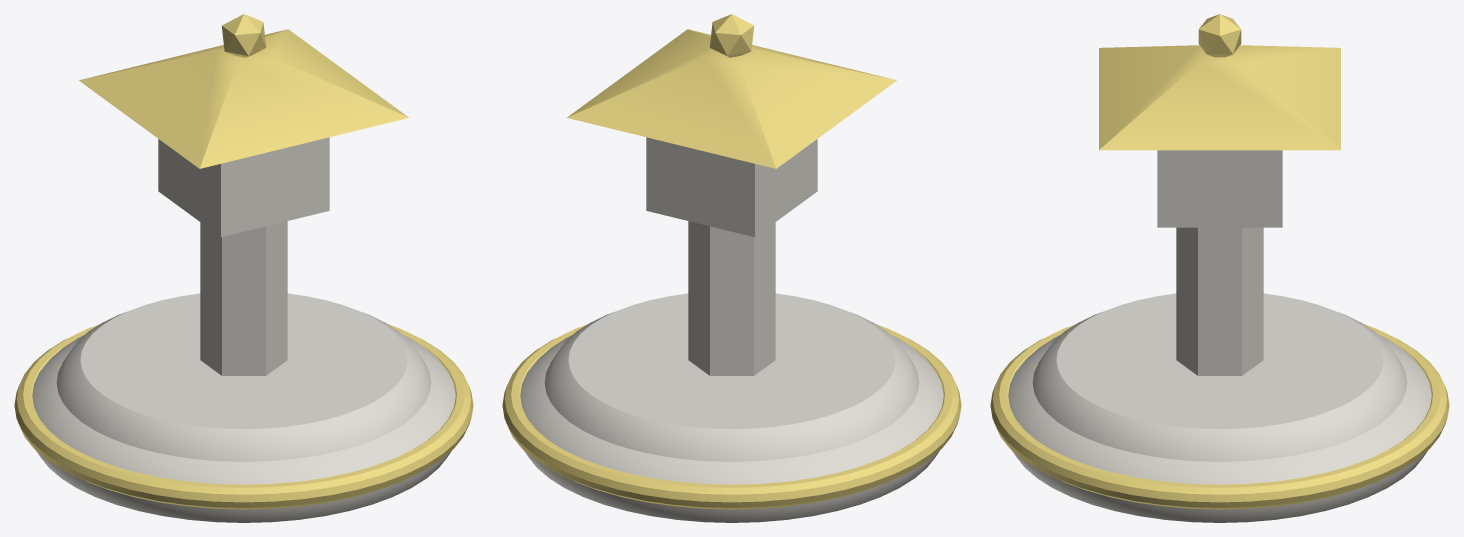
File: Kioto_Peon.fbx
3 views of the same model, side by side, from view 1: azimuth 30°, elevation 25°; view 2: azimuth 150°, elevation 25°; view 3: azimuth 270°, elevation 25° (orthographic).
Parts seen in each view (by area): view 1: Kioto_Peon; view 2: Kioto_Peon; view 3: Kioto_Peon.
Boxes of the visible parts, box(x1,y1,x2,y2) form: Kioto_Peon: box(14, 14, 473, 522); Kioto_Peon: box(502, 14, 961, 522); Kioto_Peon: box(990, 14, 1449, 522).
Size of the model in its own units: 0.7335 by 0.74 by 0.7335.
